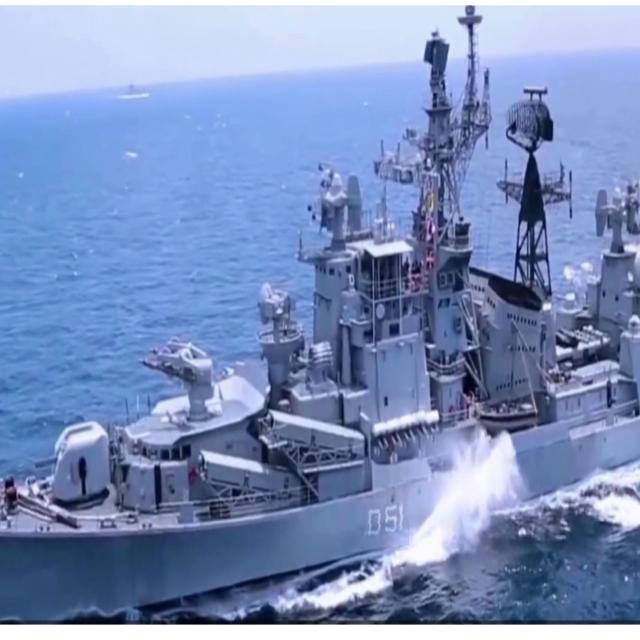OCR: (362, 495, 409, 545)
